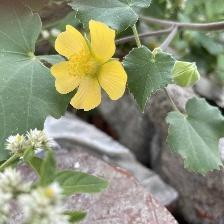indian mallow: (52, 23, 132, 112)
